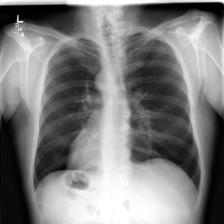normal: (29, 30, 207, 199)
